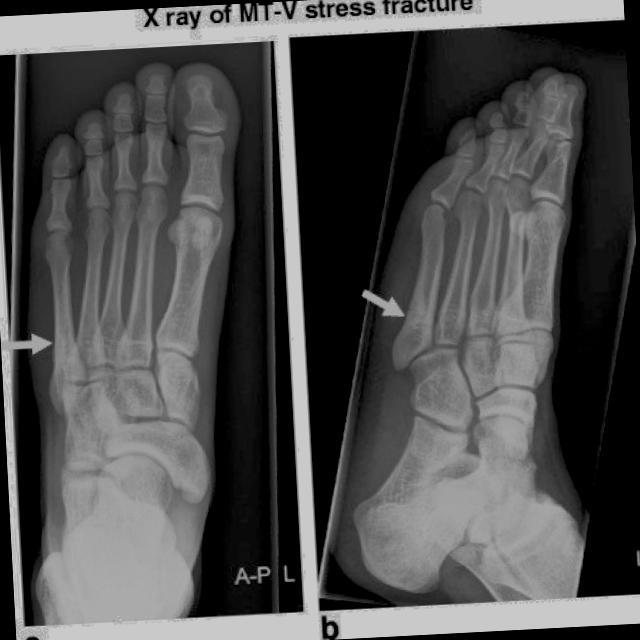HairLine Fracture: (388, 319, 433, 371)
